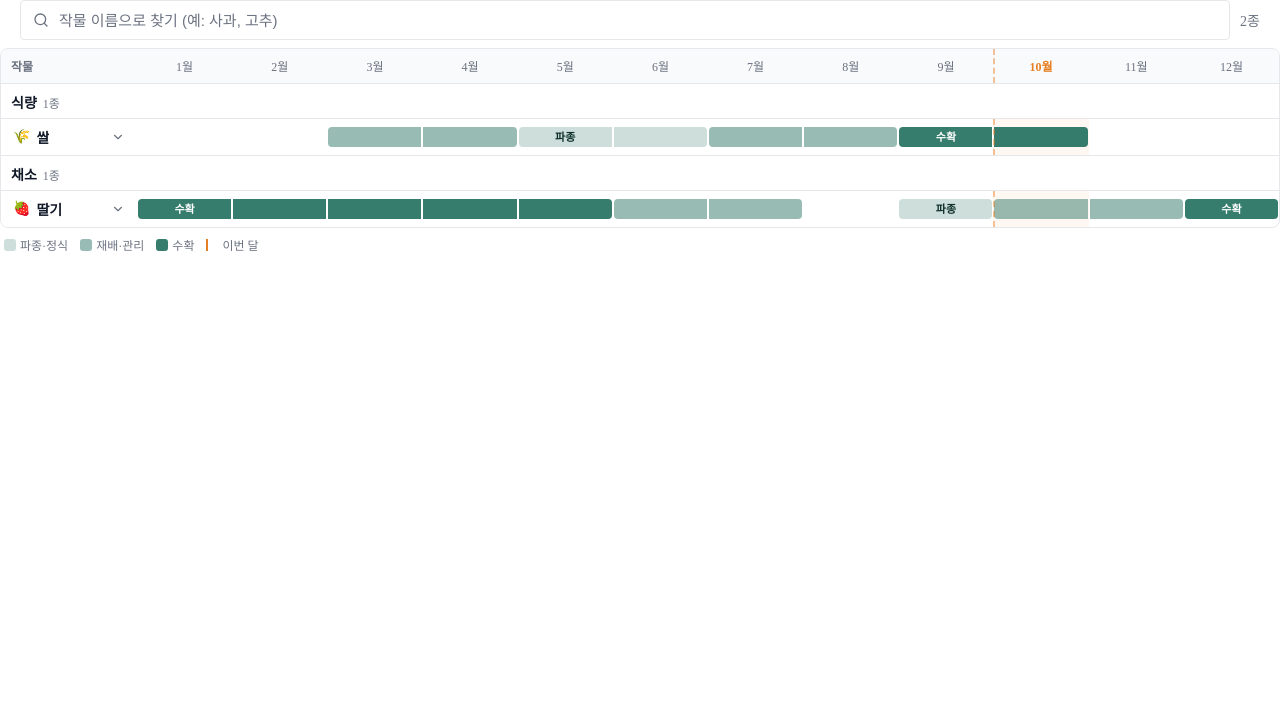
Test: FarmingCalendar 행 확장 › 다른 행을 열면 앞서 열린 행은 닫힌다
The image size is (1280, 720).
Click the button "🍓 딸기" at (69, 209), box [13,199,125,219]
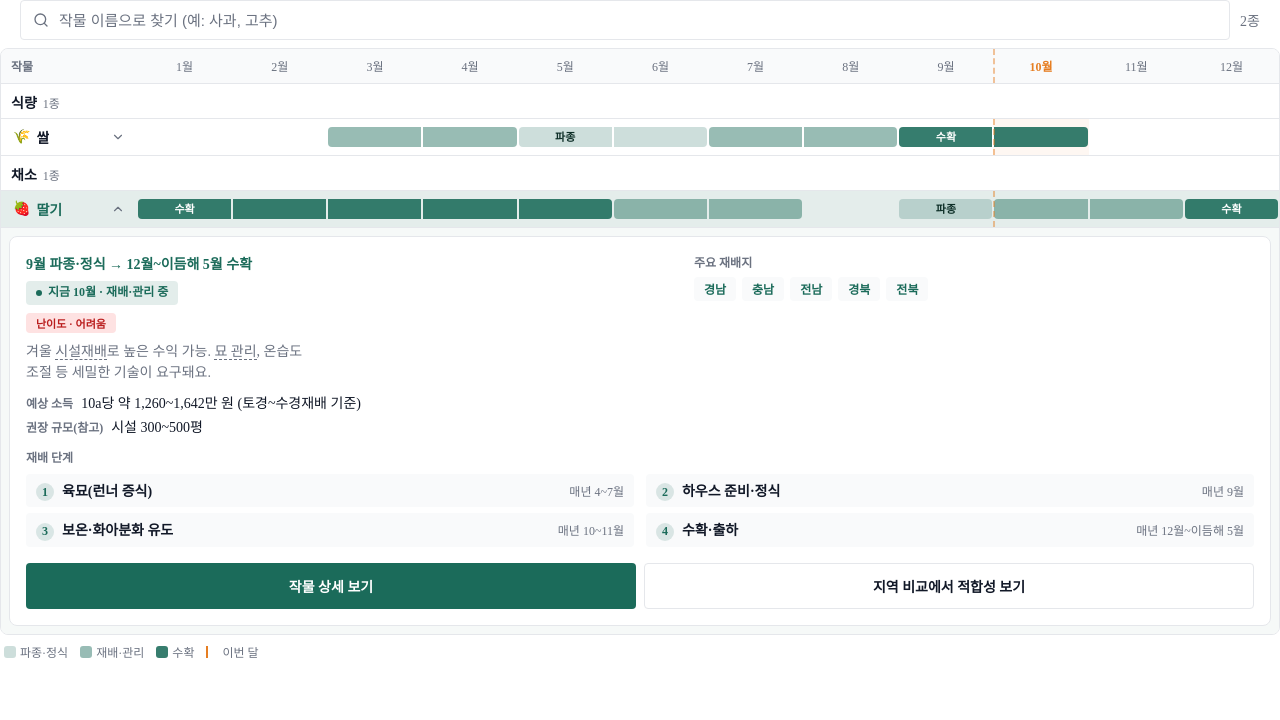
Click the button "🌾 쌀" at (69, 137), box [13,127,125,147]
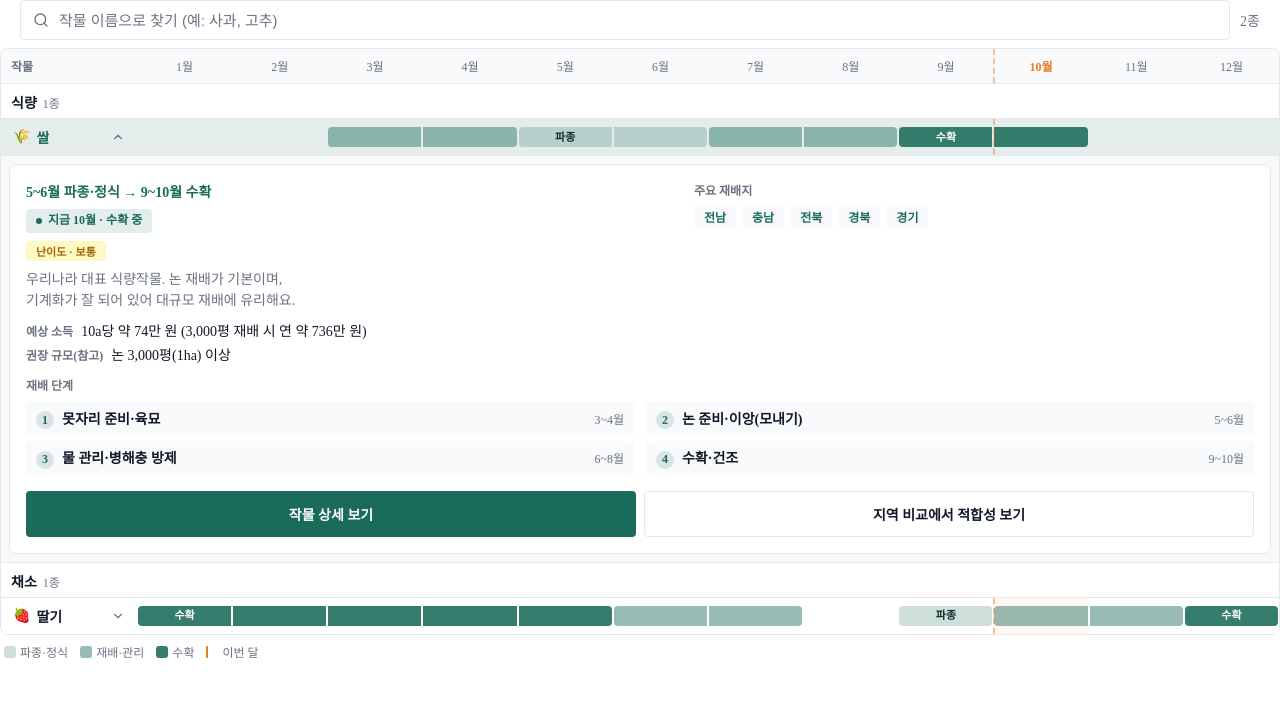
Now the button "🍓 딸기" is collapsed, box [13,606,125,626]
Now the button "🌾 쌀" is expanded, box [13,127,125,147]
Now the element named "쌀 상세" is shown, box [9,164,1271,554]
